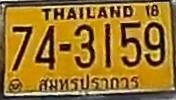1: (104, 23, 110, 67)
3: (74, 24, 94, 68)
4: (34, 25, 55, 68)
5: (120, 21, 140, 66)
7: (12, 25, 32, 70)
9: (144, 22, 164, 66)
SPK: (36, 73, 140, 92)
